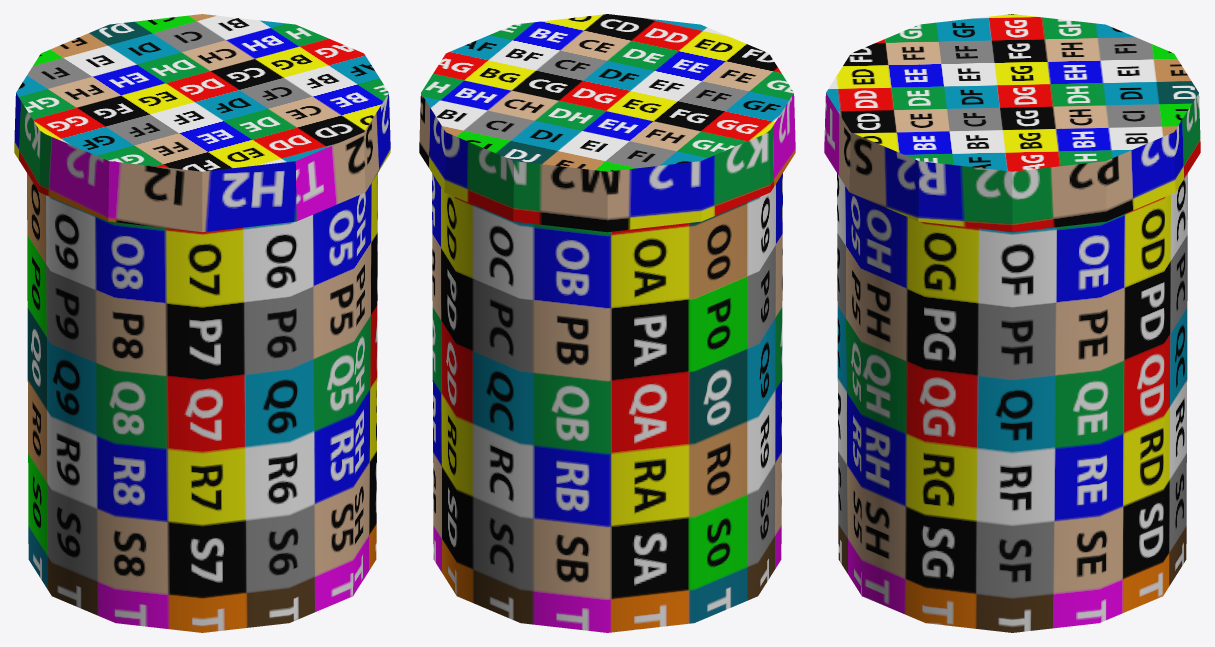
The model's file is mediciancontainer.FBX.
3 renders of one model, left to right at view 1: azimuth 30°, elevation 25°; view 2: azimuth 150°, elevation 25°; view 3: azimuth 270°, elevation 25°, orthographic.
Parts seen in each view (by area): view 1: Cylinder004, medician container; view 2: Cylinder004, medician container; view 3: Cylinder004, medician container.
Part boxes in pixels (<box>): Cylinder004: <box>27,173,377,632</box>; medician container: <box>14,14,390,232</box>; Cylinder004: <box>432,173,782,632</box>; medician container: <box>419,14,795,232</box>; Cylinder004: <box>837,173,1187,632</box>; medician container: <box>824,14,1200,232</box>.
Bounding box in the file's own units: 0.158 × 0.216 × 0.158.
1 material, 1 textured.
